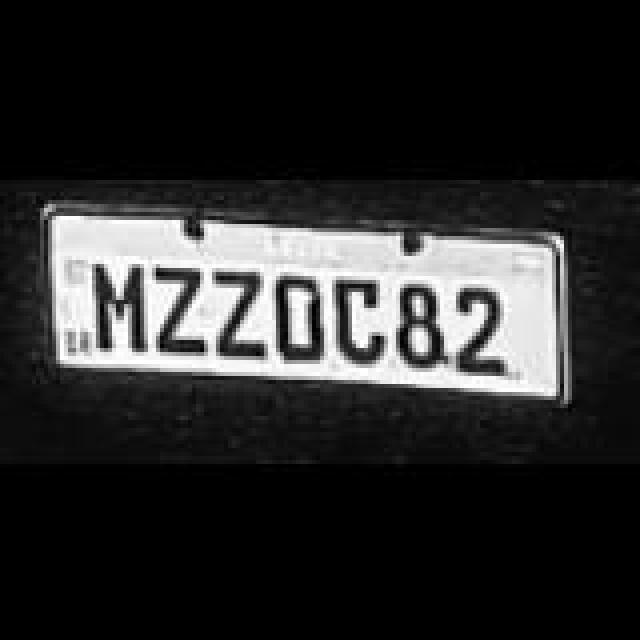2: (456, 282, 512, 374)
8: (398, 280, 450, 368)
C: (334, 276, 386, 364)
D: (272, 272, 328, 360)
M: (94, 258, 146, 350)
Z: (154, 262, 206, 354), (214, 266, 266, 358)
